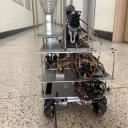cart: (38, 40, 118, 119)
